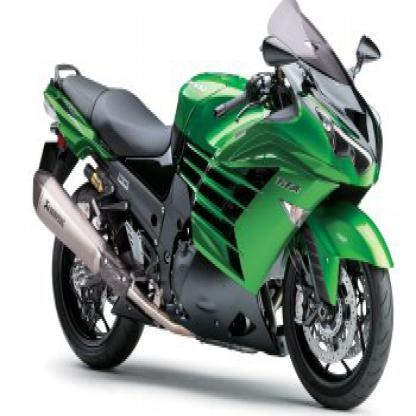Motorcycle: (26, 0, 400, 408)
